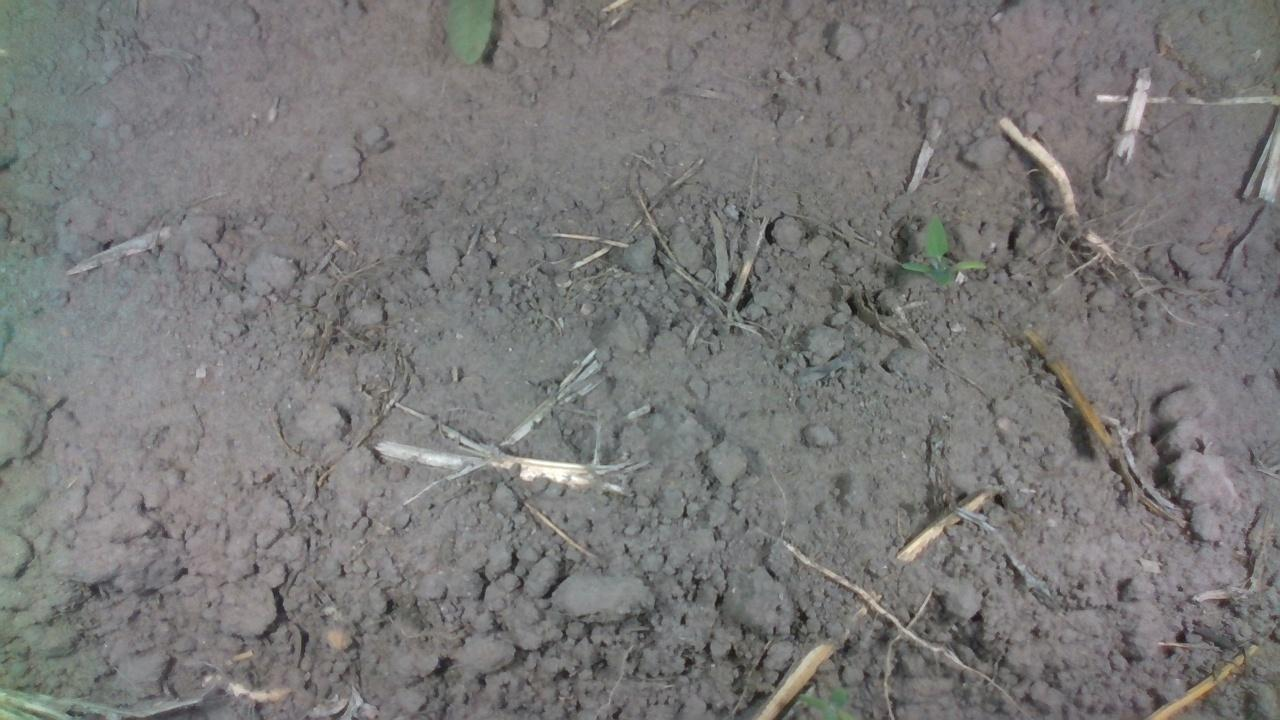weed: (898, 215, 987, 290)
